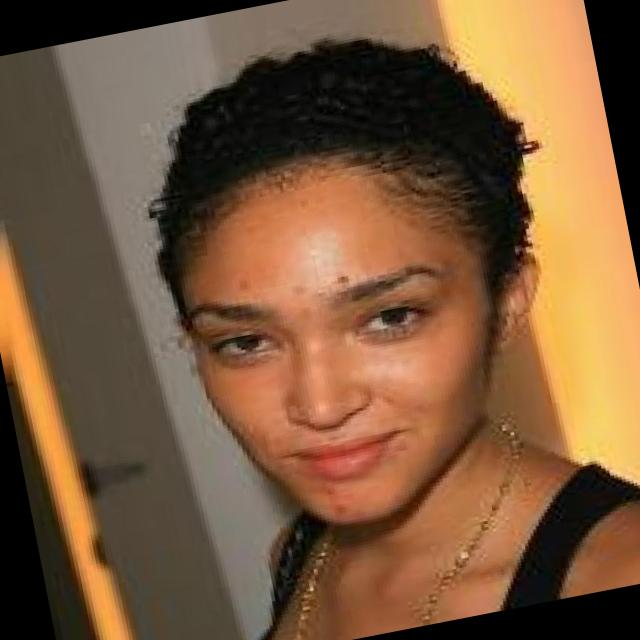bareface: (130, 31, 594, 562)
